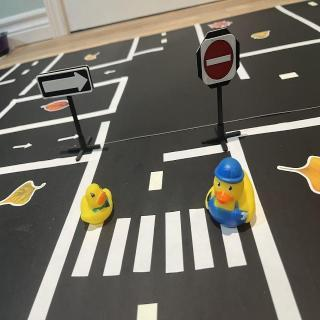duck_regular: (80, 182, 115, 226)
duck_specialty: (204, 157, 259, 232)
road_crosswalk: (68, 201, 252, 279)
road_oneway: (58, 134, 82, 144), (13, 143, 36, 153), (103, 69, 119, 77)
sign_noentry: (201, 34, 239, 86)
sign_oneway_right: (38, 65, 94, 101)
